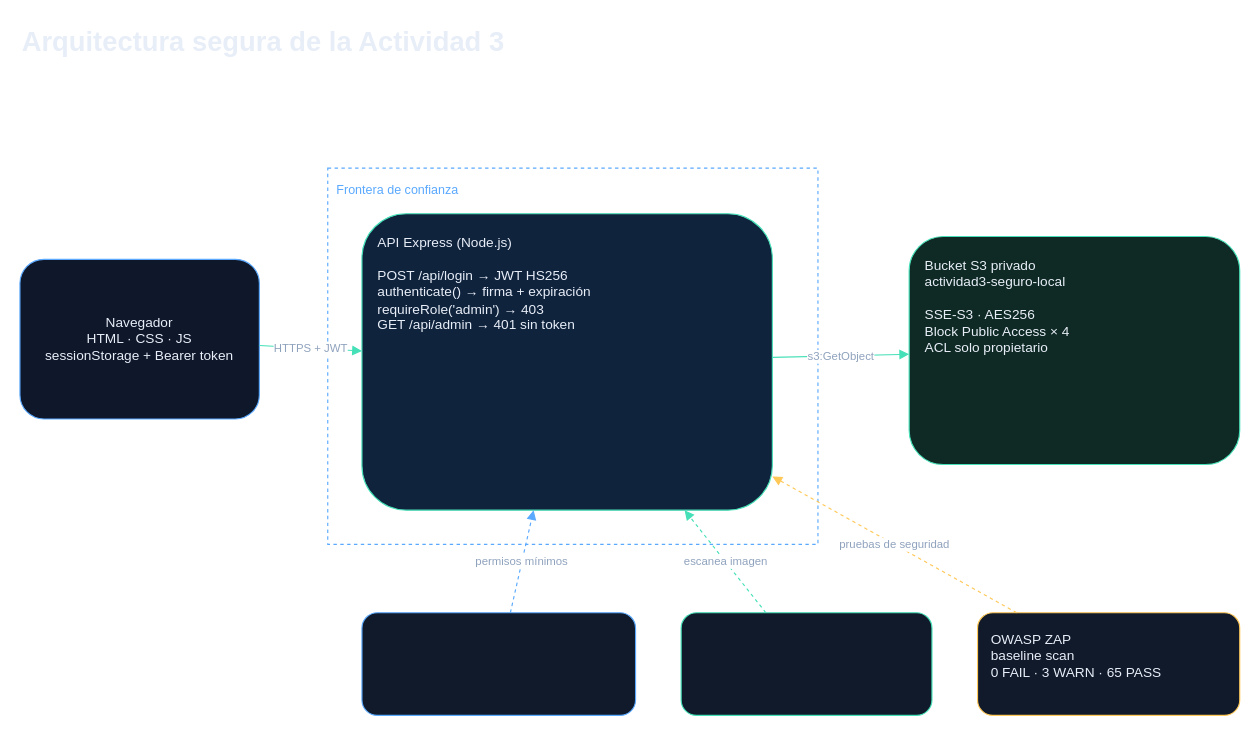
This 1260x735 diagram has some shape labels left out. Each missing label, with the box of its shape:
CI/CD · Trivy imagen node:18-alpine 0 CRITICAL · 0 HIGH: (680, 612, 932, 715)
Rol IAM mínimo privilegio s3:GetObject · s3:ListBucket: (361, 612, 636, 715)
